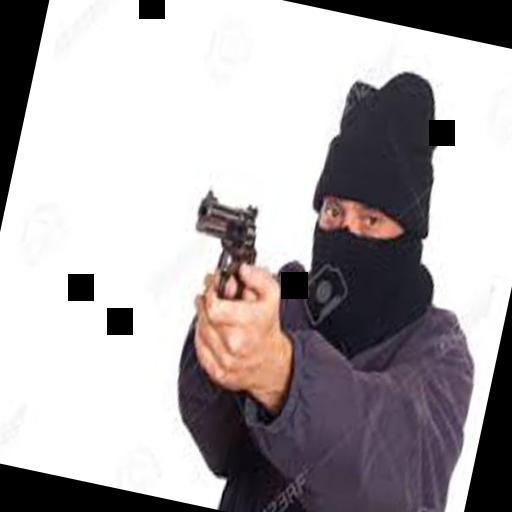Handgun: (174, 180, 274, 314)
